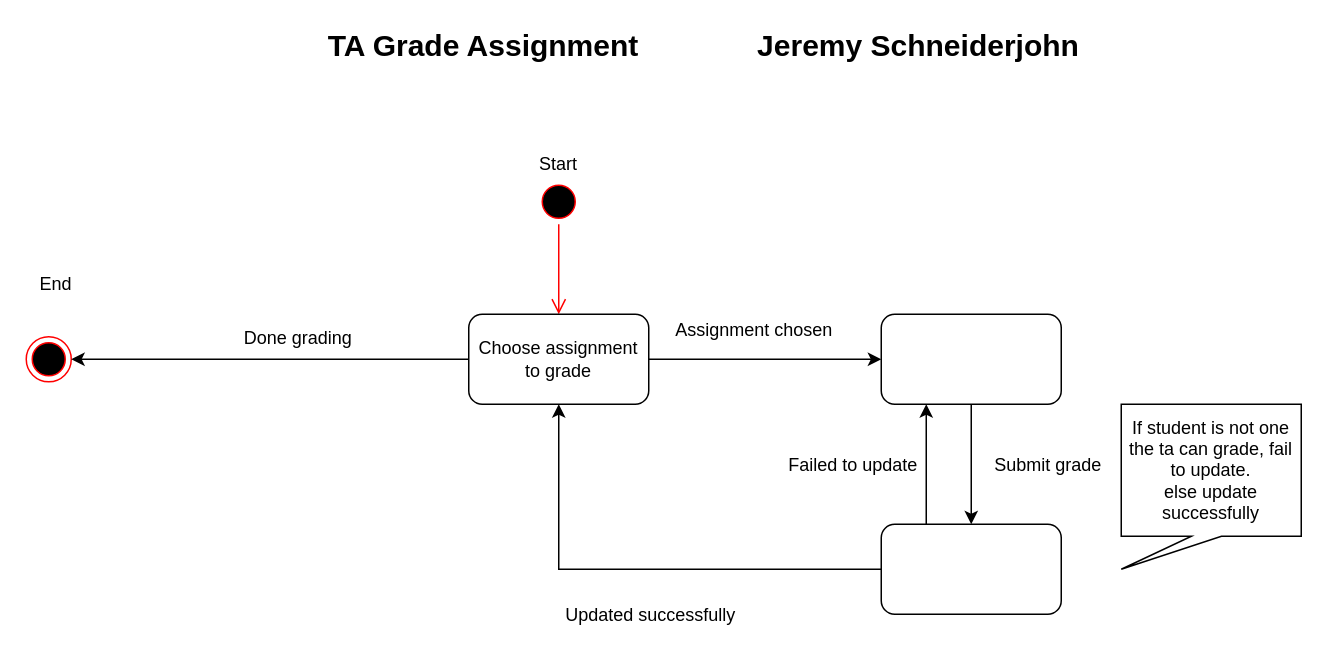
This 1328x651 diagram has some shape labels left out. Each missing label, with the centre of its shape:
"Enter grade" goes at [970,358].
"Verify grade was updated" goes at [970,568].
